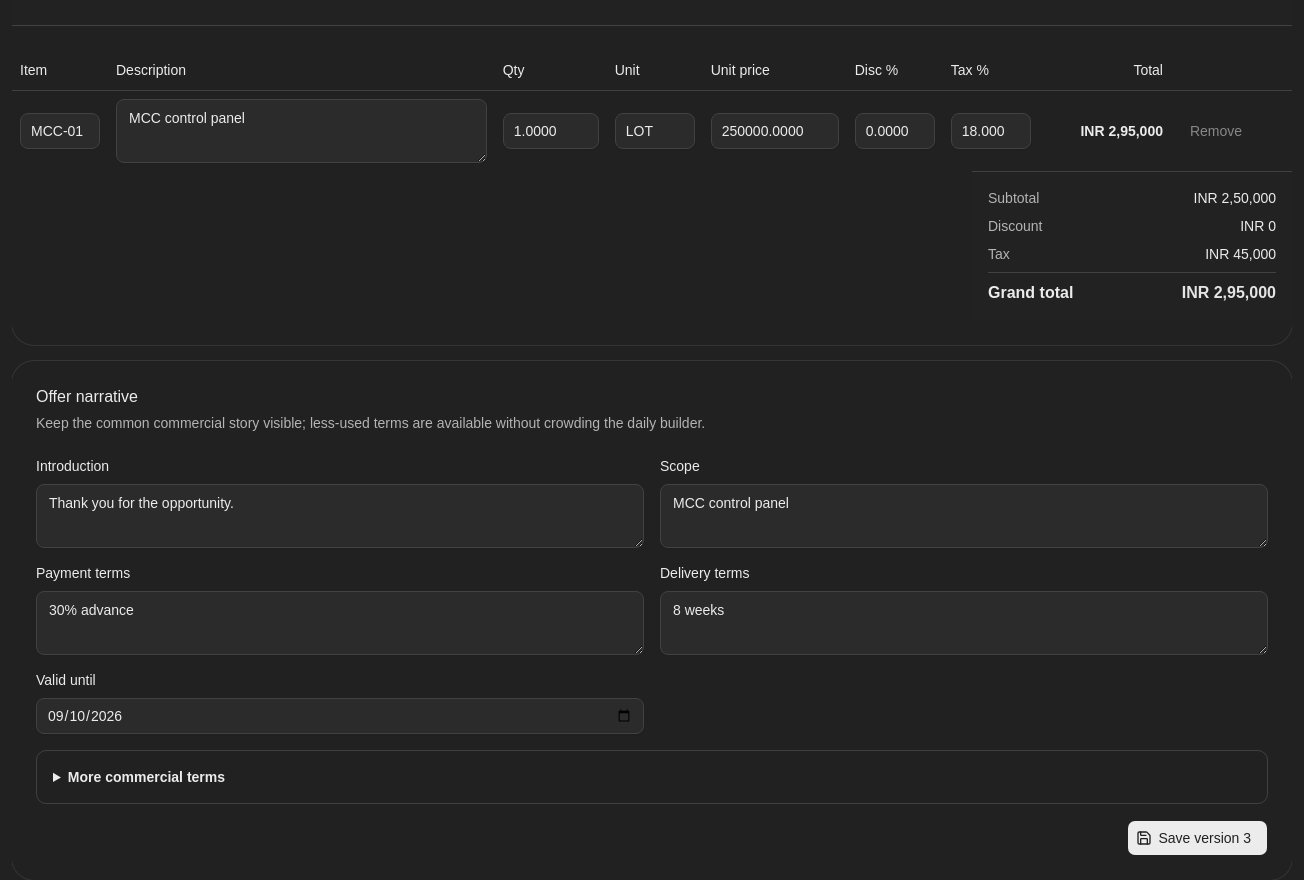
Test: quotation frontend › shows a friendly refresh action on an optimistic-lock conflict
(page scrolled)
Click the button "Save version 3": x=1198, y=838 [1127, 820, 1268, 856]
(page scrolled)
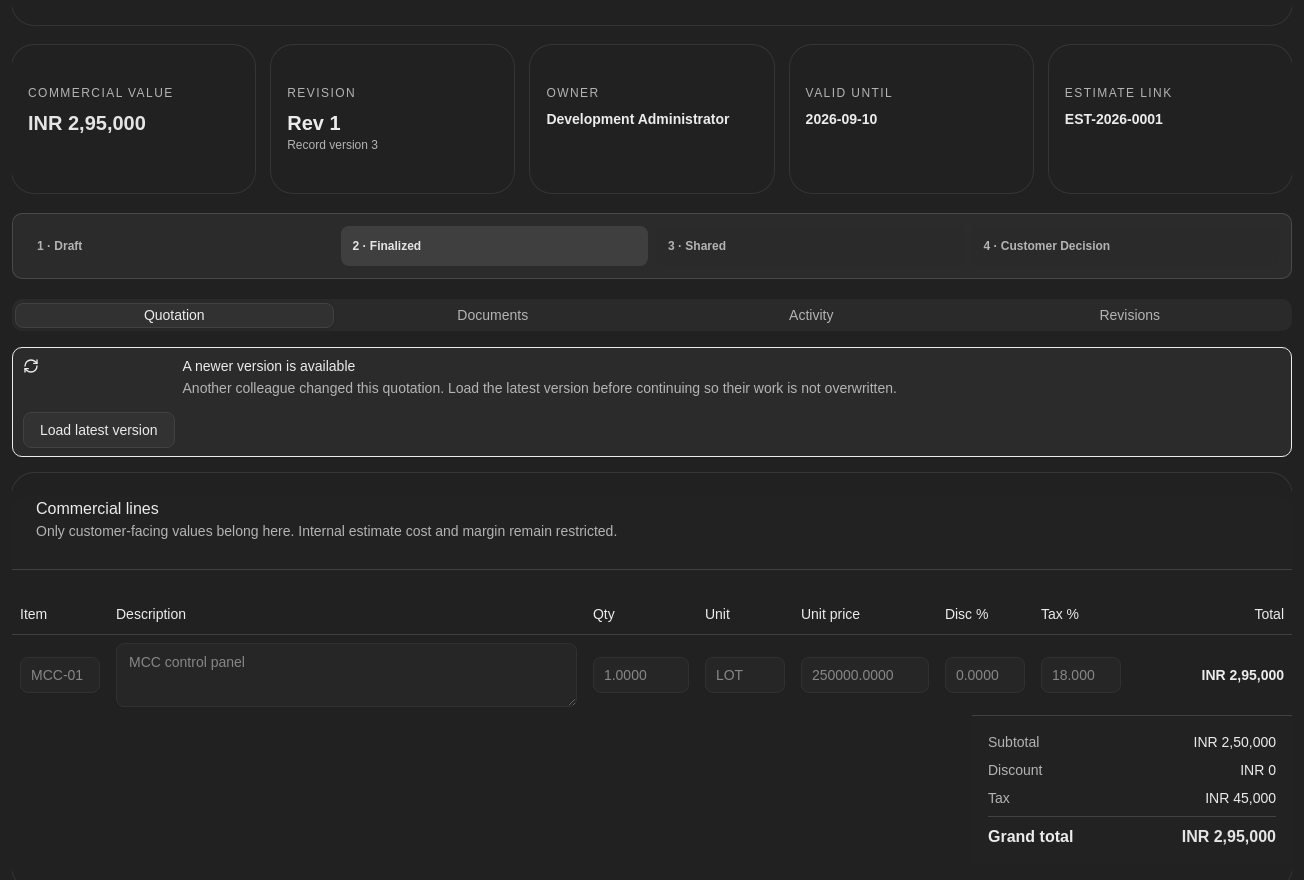
Now the text "A newer version is available" is shown, box [182, 358, 355, 374]
Now the button "Load latest version" is shown, box [23, 412, 174, 448]
